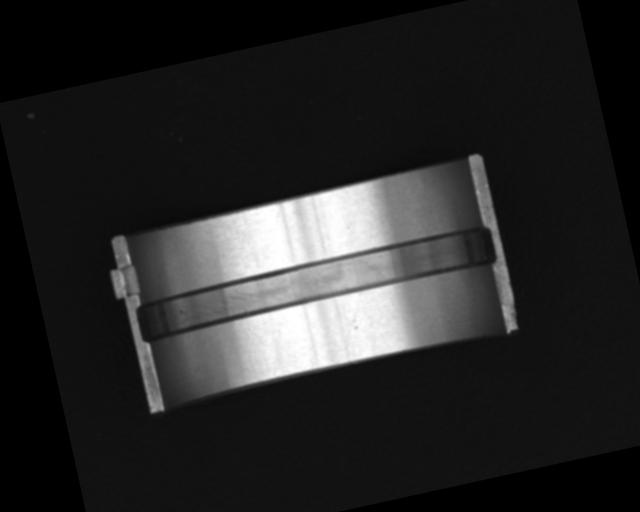gap: (130, 223, 500, 344)
